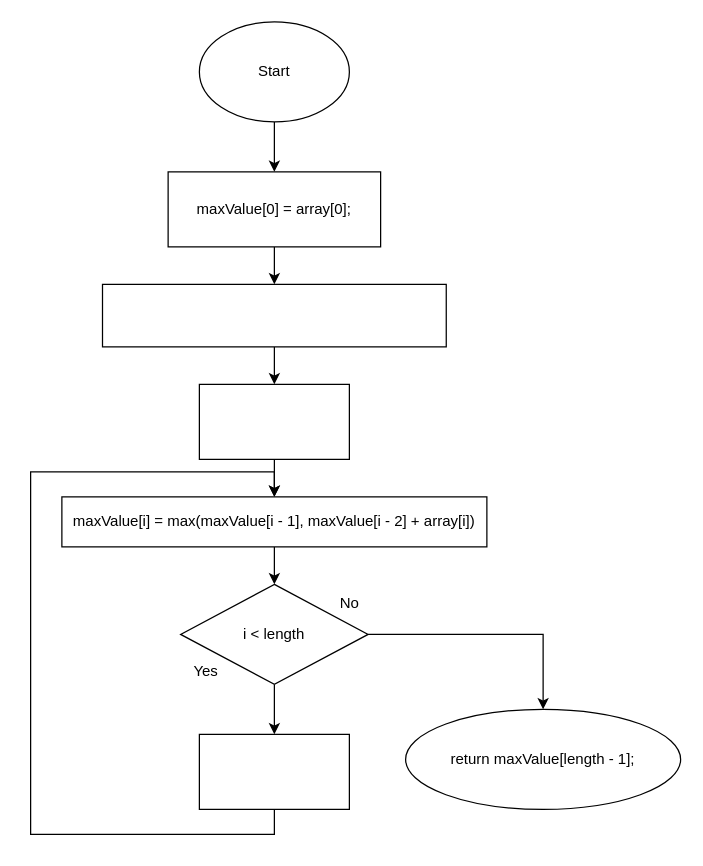
The diagram is 703 pixels wide and 866 high, and some of its shapes have lost their labels. Here are the shapes that lost their labels. From the top down, the centre of each, then its label:
(x=273, y=315): maxValue[1] = max(maxValue[0], array[1]);
(x=273, y=421): i = 2;
(x=273, y=771): i++;
